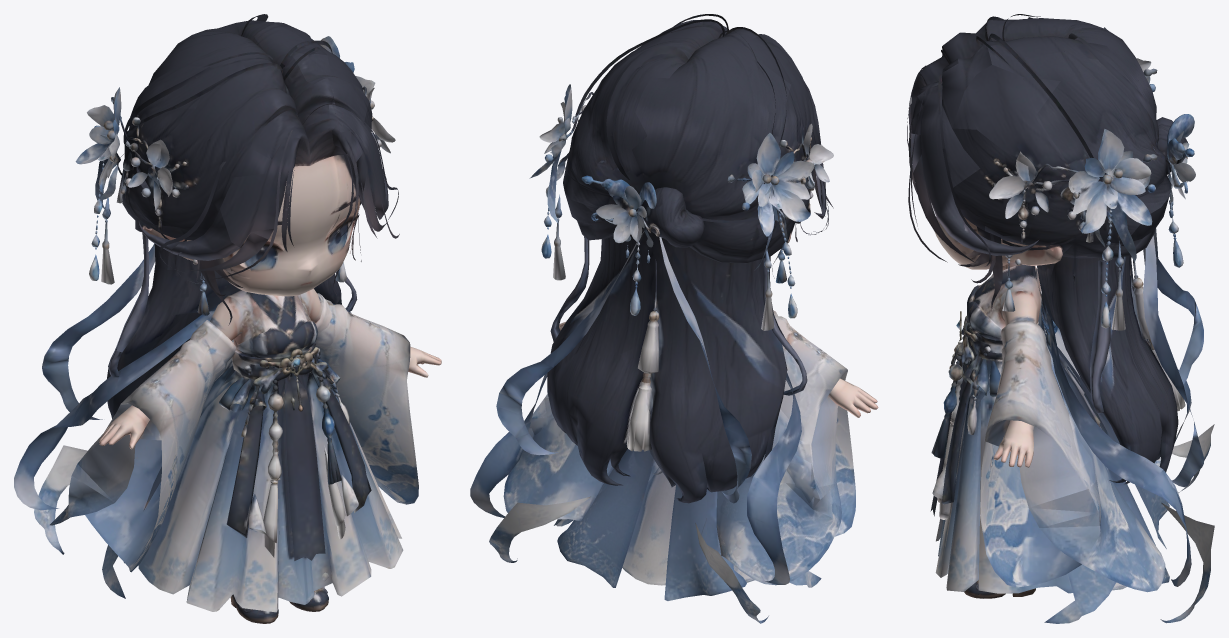
File: source.glb
The picture shows the model from 3 angles, left to right: view 1: azimuth 30°, elevation 25°; view 2: azimuth 150°, elevation 25°; view 3: azimuth 270°, elevation 25°; orthographic projection. The views are drawn at different scales.
Visible parts, largest first — view 1: tripo_part_4, tripo_part_29, tripo_part_17, tripo_part_5, tripo_part_113, tripo_part_94, tripo_part_28, tripo_part_202, tripo_part_95, tripo_part_44, tripo_part_13, tripo_part_107 (+29 smaller); view 2: tripo_part_13, tripo_part_28, tripo_part_26, tripo_part_4, tripo_part_8, tripo_part_112, tripo_part_106, tripo_part_45, tripo_part_62, tripo_part_95, tripo_part_16, tripo_part_29 (+21 smaller); view 3: tripo_part_17, tripo_part_8, tripo_part_26, tripo_part_45, tripo_part_131, tripo_part_25, tripo_part_96, tripo_part_124, tripo_part_28, tripo_part_97, tripo_part_9, tripo_part_3 (+38 smaller).
Boxes of the visible parts, x1=… form: tripo_part_4: x1=68, y1=63, x2=298, y2=572; tripo_part_29: x1=124, y1=60, x2=307, y2=270; tripo_part_17: x1=177, y1=170, x2=418, y2=504; tripo_part_5: x1=144, y1=153, x2=360, y2=411; tripo_part_113: x1=186, y1=399, x2=279, y2=612; tripo_part_94: x1=124, y1=388, x2=236, y2=601; tripo_part_28: x1=122, y1=23, x2=272, y2=240; tripo_part_202: x1=284, y1=376, x2=325, y2=560; tripo_part_95: x1=14, y1=310, x2=214, y2=510; tripo_part_44: x1=220, y1=137, x2=300, y2=251; tripo_part_13: x1=107, y1=116, x2=330, y2=418; tripo_part_107: x1=256, y1=397, x2=314, y2=611; tripo_part_13: x1=620, y1=227, x2=787, y2=503; tripo_part_28: x1=632, y1=28, x2=795, y2=263; tripo_part_26: x1=547, y1=237, x2=646, y2=485; tripo_part_4: x1=732, y1=27, x2=855, y2=536; tripo_part_8: x1=559, y1=14, x2=717, y2=232; tripo_part_112: x1=720, y1=482, x2=838, y2=585; tripo_part_106: x1=557, y1=449, x2=654, y2=587; tripo_part_45: x1=503, y1=417, x2=658, y2=521; tripo_part_62: x1=664, y1=485, x2=746, y2=600; tripo_part_95: x1=747, y1=373, x2=801, y2=584; tripo_part_16: x1=622, y1=467, x2=754, y2=585; tripo_part_29: x1=743, y1=34, x2=825, y2=220; tripo_part_17: x1=910, y1=113, x2=1101, y2=587; tripo_part_8: x1=938, y1=33, x2=1171, y2=258; tripo_part_26: x1=1041, y1=256, x2=1178, y2=484; tripo_part_45: x1=1039, y1=426, x2=1165, y2=592; tripo_part_131: x1=952, y1=65, x2=1070, y2=169; tripo_part_25: x1=911, y1=84, x2=1039, y2=262; tripo_part_96: x1=1038, y1=286, x2=1191, y2=586; tripo_part_124: x1=946, y1=362, x2=990, y2=591; tripo_part_28: x1=986, y1=18, x2=1156, y2=118; tripo_part_97: x1=1143, y1=235, x2=1203, y2=487; tripo_part_9: x1=972, y1=264, x2=1040, y2=329; tripo_part_3: x1=1017, y1=153, x2=1151, y2=214.
Bounding box in the file's own units: 0.6444 × 1 × 0.5046.
Materials: 1 (1 with a texture image).
